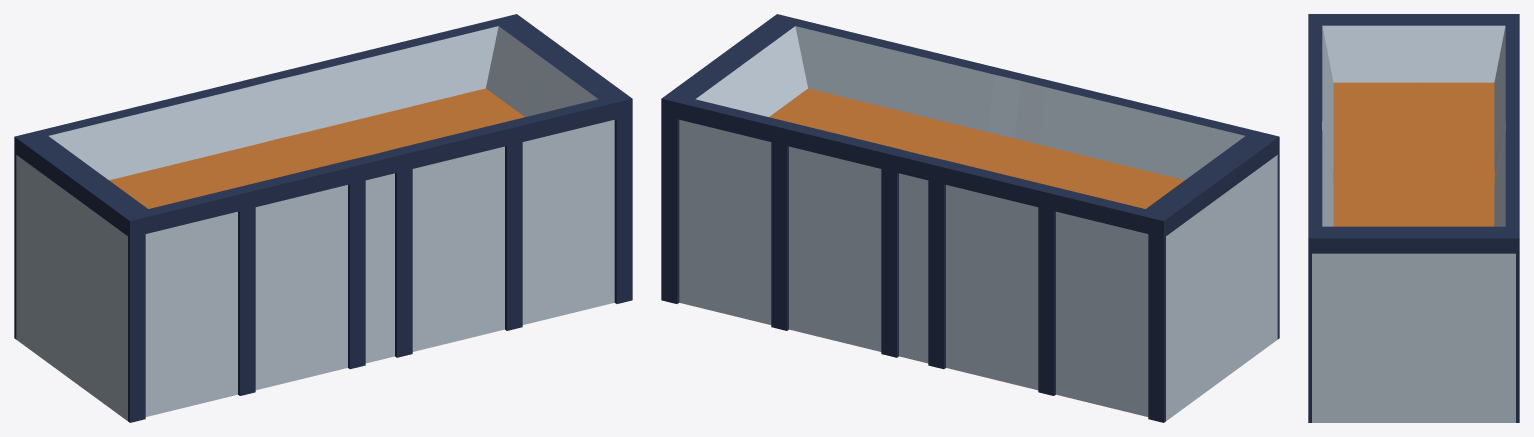
File: LCargoModel10.fbx
3 views of the same model, side by side, from view 1: azimuth 30°, elevation 25°; view 2: azimuth 150°, elevation 25°; view 3: azimuth 270°, elevation 25° (orthographic). The views are drawn at different scales.
Visible parts, largest first — view 1: LCargoModel10; view 2: LCargoModel10; view 3: LCargoModel10.
Part boxes in pixels (box(x1,y1,x2,y2)): LCargoModel10: box(14, 14, 632, 422); LCargoModel10: box(661, 14, 1279, 422); LCargoModel10: box(1308, 14, 1519, 422).
Bounding box in the file's own units: 731 × 280 × 291.
